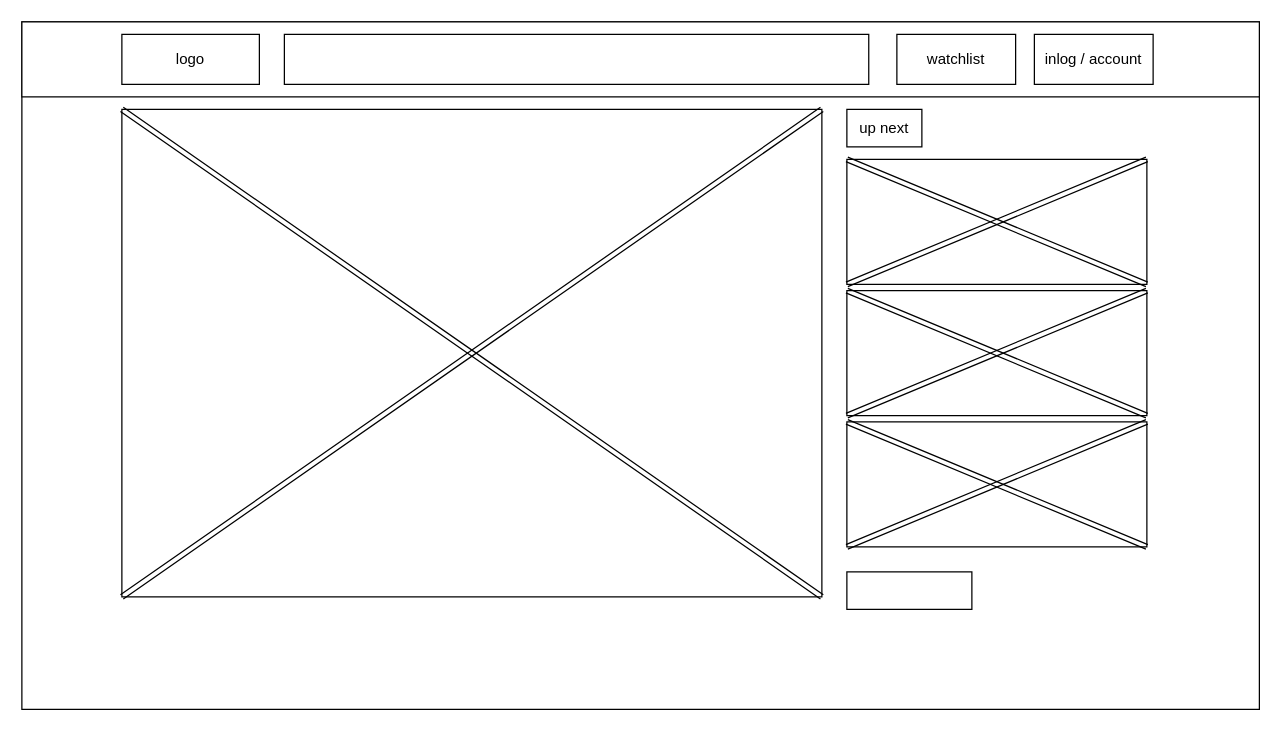
This 1281x731 diagram has some shape labels left out. The shapes that lost their labels are listed below. From the top down, each one's box as (x1, y1, x2, y2) in pixels, then its label:
(283, 33, 869, 84): searchbar
(846, 571, 972, 609): browse trailers
